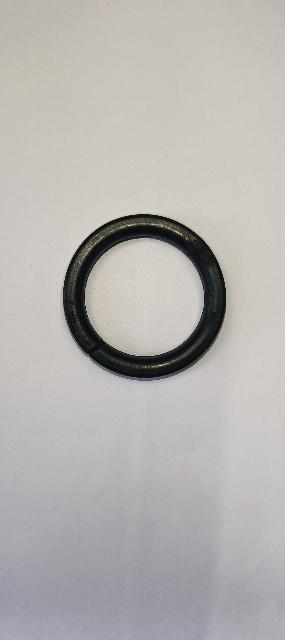4: (180, 230, 215, 270)
scratch: (82, 332, 110, 360)
